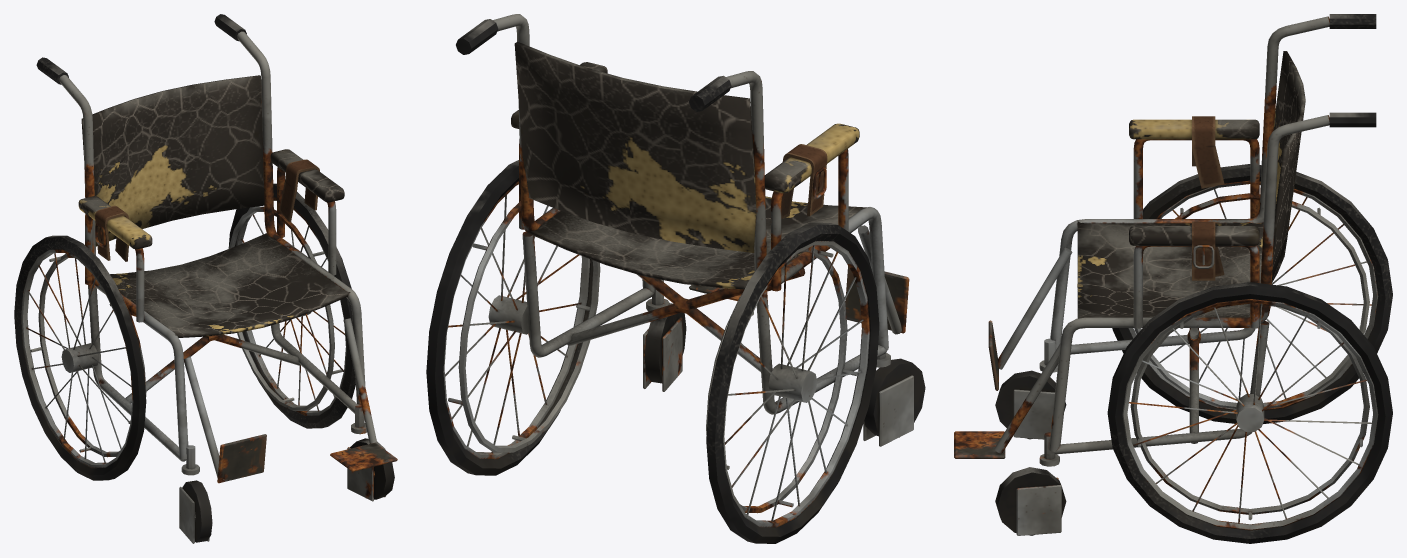
Rendered from Wheelchair.fbx.
3 renders of one model, left to right at view 1: azimuth 30°, elevation 25°; view 2: azimuth 150°, elevation 25°; view 3: azimuth 270°, elevation 25°, orthographic. The views are drawn at different scales.
Visible parts, largest first — view 1: Wheelchair; view 2: Wheelchair; view 3: Wheelchair.
Boxes of the visible parts, left/top/right/bottom form: Wheelchair: left=14, top=14, right=397, bottom=543; Wheelchair: left=426, top=14, right=925, bottom=543; Wheelchair: left=954, top=14, right=1392, bottom=543.
Bounding box in the file's own units: 2.01 × 2.99 × 2.82.
Materials: 1 (1 with a texture image).
